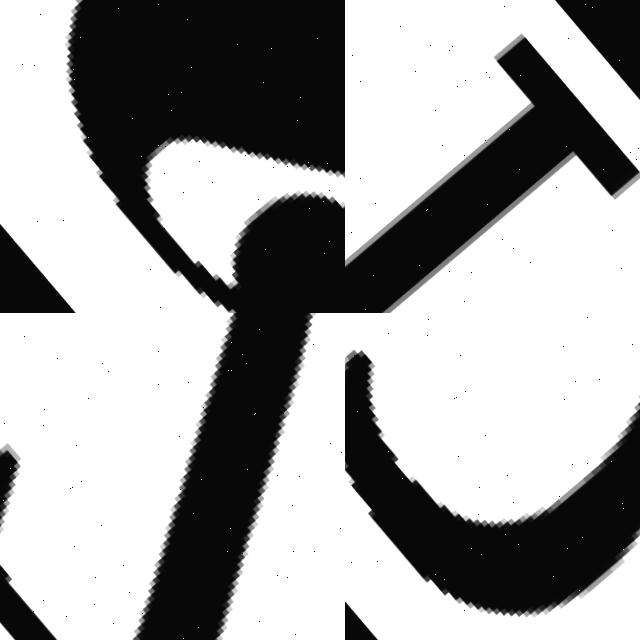2: (345, 313, 640, 640)
7: (0, 313, 345, 640)
L: (345, 25, 640, 313)
S: (0, 0, 345, 313)
